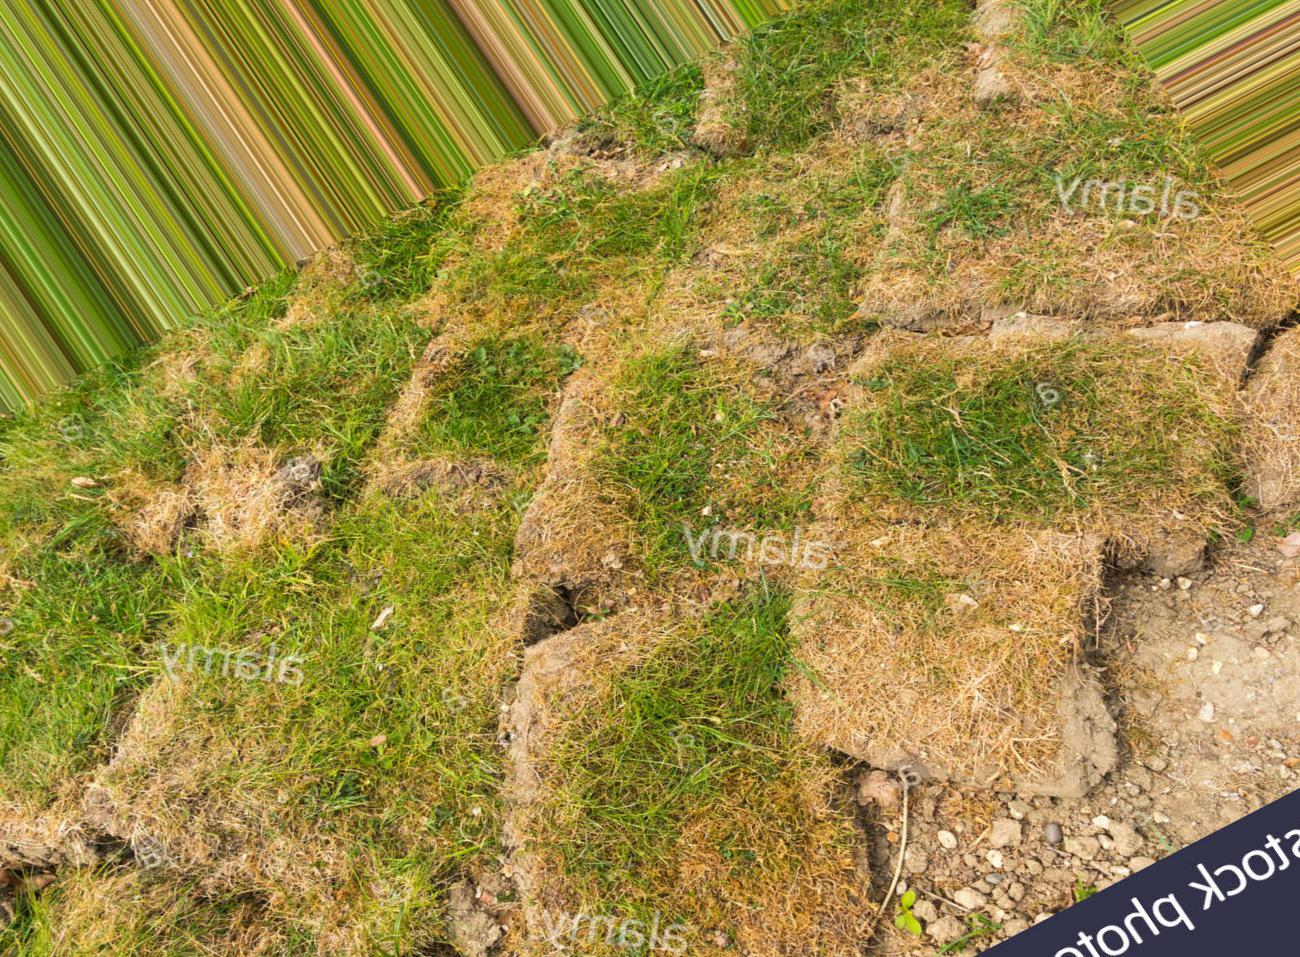patch: (855, 573, 1064, 710), (544, 420, 642, 602), (78, 716, 226, 821), (131, 487, 335, 556), (1132, 591, 1264, 688), (619, 256, 749, 342), (358, 404, 482, 474), (1192, 297, 1282, 393), (1030, 227, 1119, 312), (972, 39, 1056, 112), (532, 343, 627, 406), (883, 225, 951, 285), (291, 280, 351, 331), (464, 184, 529, 220)
